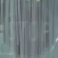Stop: (3, 3, 56, 47)
